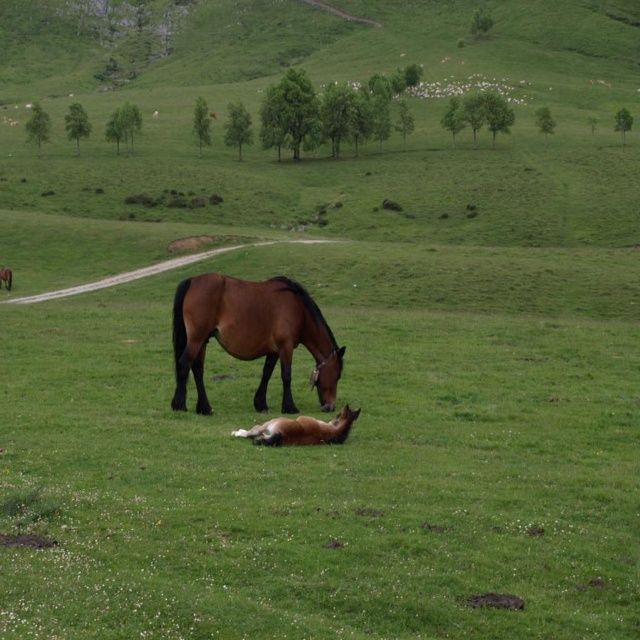Horse: (169, 274, 347, 413), (232, 405, 363, 450)
